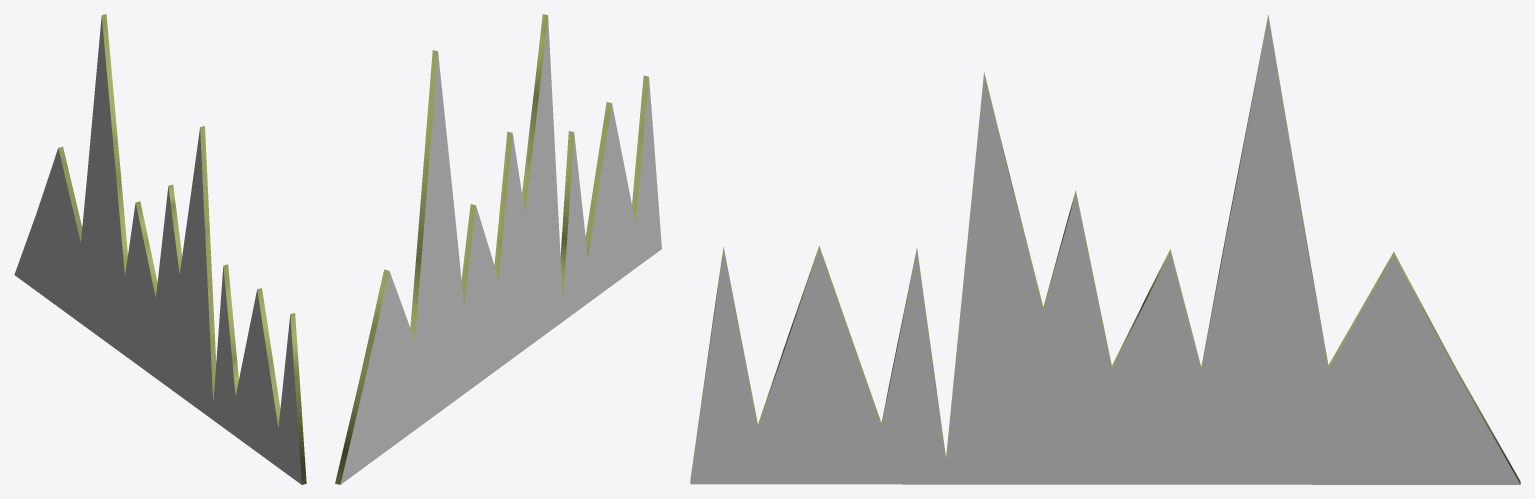
Rendered from grass.fbx.
3 renders of one model, left to right at view 1: azimuth 30°, elevation 25°; view 2: azimuth 150°, elevation 25°; view 3: azimuth 270°, elevation 25°, orthographic. The views are drawn at different scales.
Visible parts, largest first — view 1: Cap_1, grass; view 2: Cap_1, grass; view 3: Cap_2, grass.
Boxes of the visible parts, x1,y1,x2,y2 form: Cap_1: (14,17,301,484); grass: (58,14,306,484); Cap_1: (340,16,661,484); grass: (335,14,648,484); Cap_2: (690,18,1520,484); grass: (690,15,1520,484).
Bounding box in the file's own units: 0.8156 × 52.43 × 84.38.
Materials: 1 (1 with a texture image).
